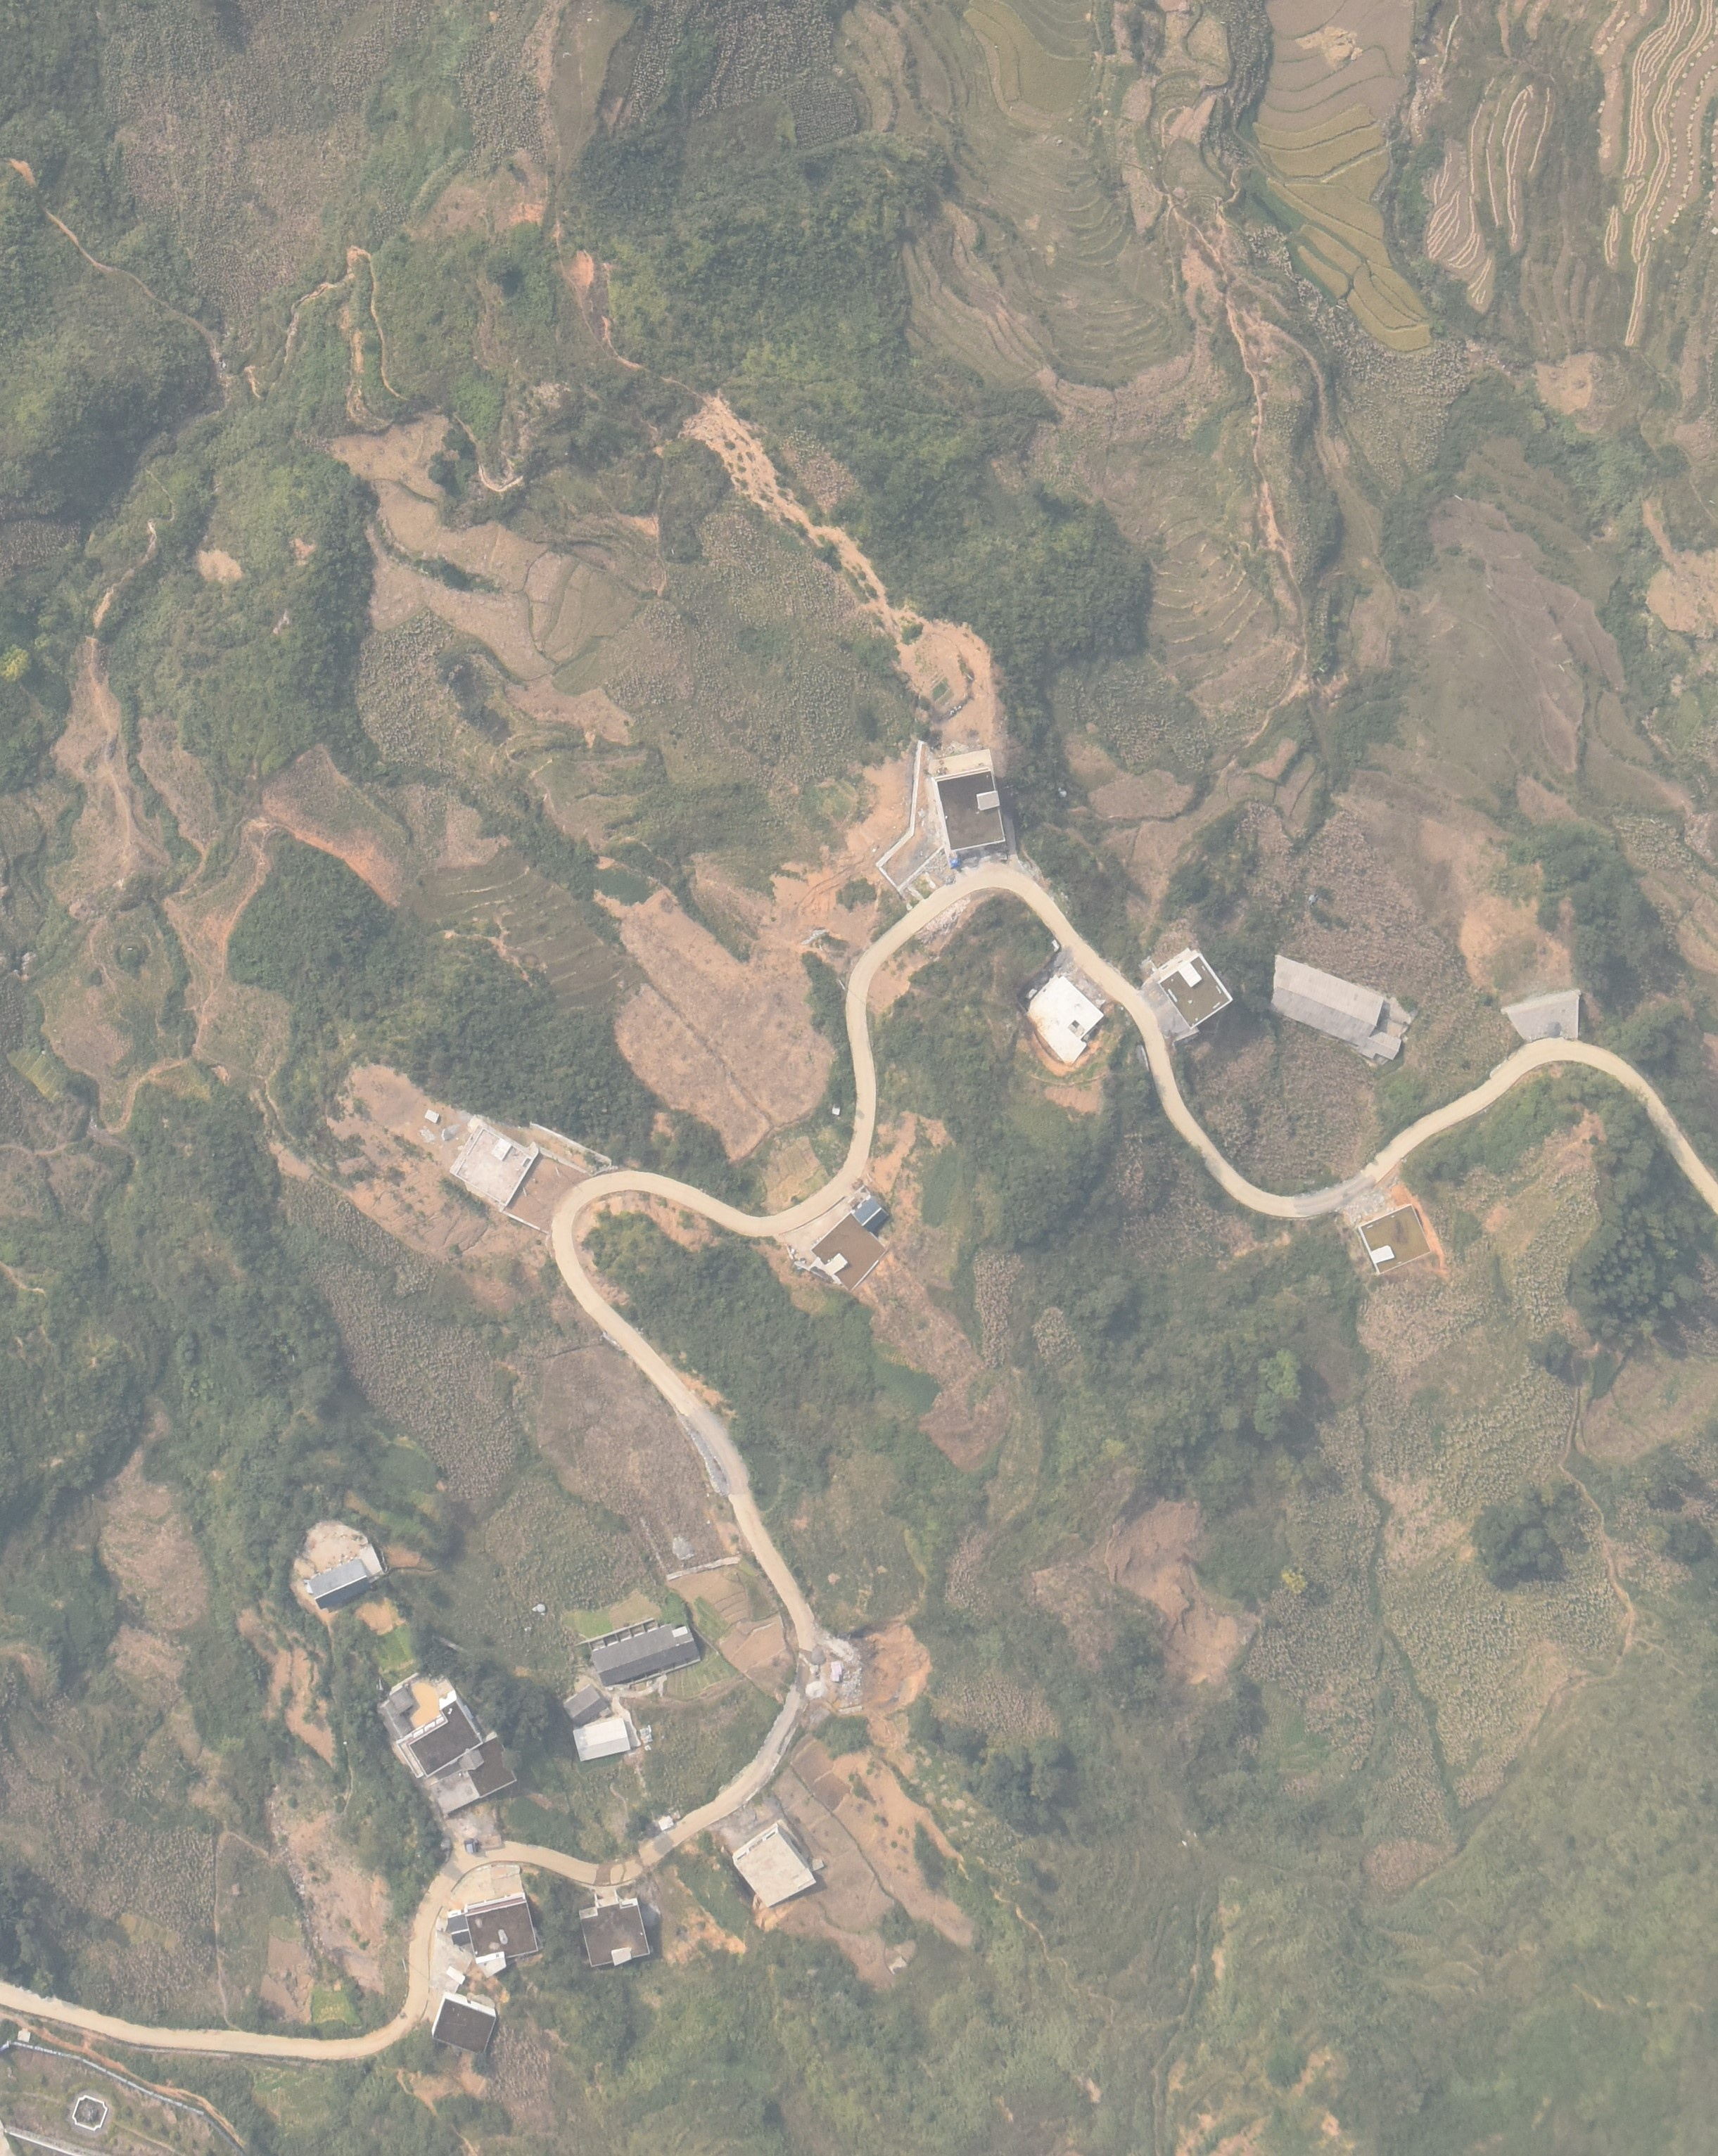building: (396, 1690, 517, 1812), (1267, 955, 1401, 1062), (731, 1821, 824, 1909), (447, 1895, 540, 1979), (587, 1618, 701, 1686), (449, 1125, 538, 1208), (931, 766, 1006, 850), (577, 1890, 652, 1968), (812, 1211, 885, 1292), (1157, 952, 1232, 1027), (1355, 1202, 1430, 1274), (431, 1993, 496, 2053), (309, 1558, 370, 1611), (563, 1684, 607, 1725), (379, 1700, 412, 1741), (854, 1195, 889, 1230), (359, 1546, 384, 1581), (389, 1683, 412, 1714)
prefabricated-house: (1027, 976, 1104, 1067), (571, 1720, 631, 1762)
